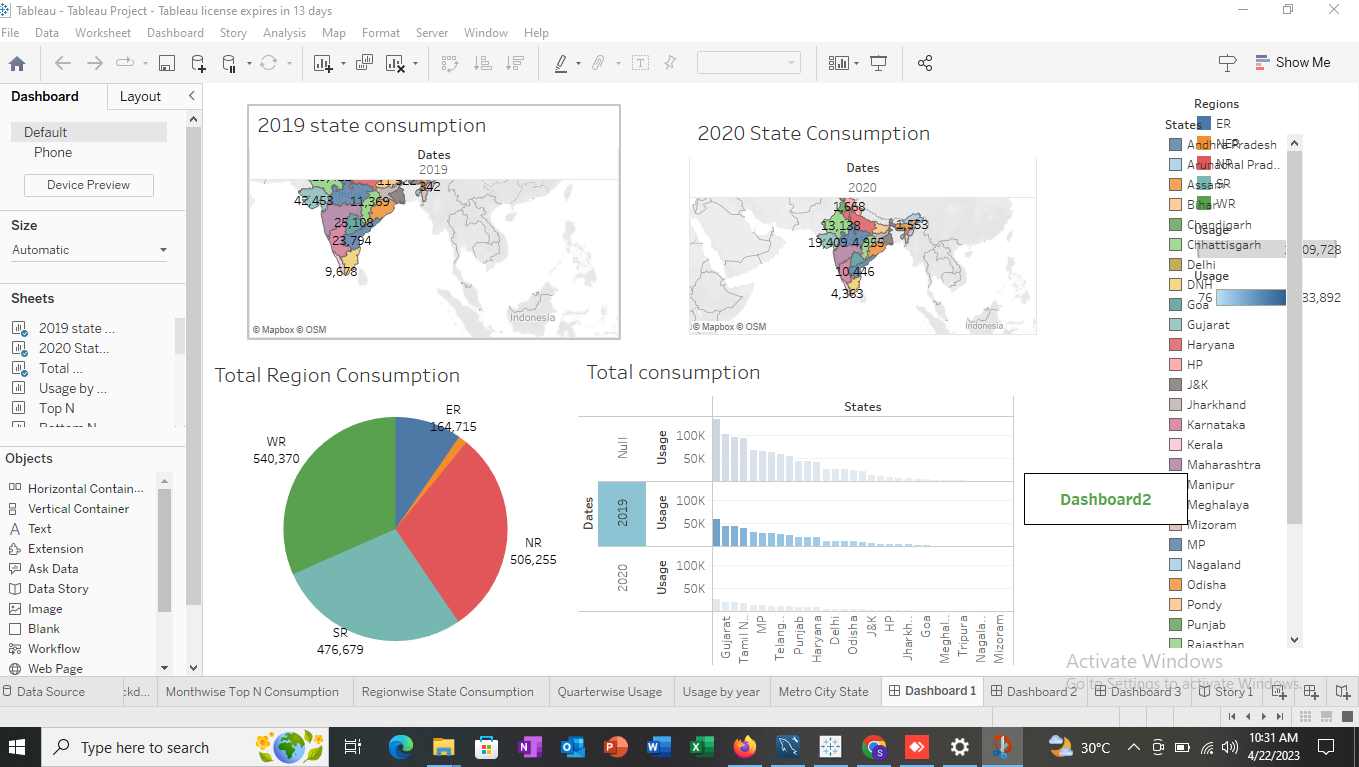

Layout of this report page (visuals, bound fields, positions):
{"tool":"tableau","page":{"name":"Dashboard 1","canvas":[1000,1000],"units":"permille","ordinal":0},"visuals":[{"type":"legend","title":" Total Region Consumption","param":"[federated.109c9rb1er5z9013tcwor05avt9f].[none:Regions:nk]","box":[877,10.8,117.1,170.7]},{"type":"worksheet","title":" 2019 state consumption","mark":"Multipolygon","rows":["latitude"],"cols":["Dates","longitude"],"box":[39.8,38.9,320.4,391.9]},{"type":"worksheet","title":" 2020 State Consumption","mark":"Multipolygon","rows":["latitude"],"cols":["Dates","longitude"],"box":[420.8,52.4,301.3,373.3]},{"type":"legend","title":" 2019 state consumption","param":"[federated.109c9rb1er5z9013tcwor05avt9f].[none:States:nk]","box":[832.9,55.7,121.2,898.6]},{"type":"legend","title":" Total Region Consumption","param":"[federated.109c9rb1er5z9013tcwor05avt9f].[sum:Usage:qk]","box":[877,181.6,117.1,62.3]},{"type":"legend","title":" Total consumption","param":"[federated.109c9rb1er5z9013tcwor05avt9f].[sum:Usage:qk]","box":[877,243.9,117.1,88.1]},{"type":"worksheet","title":" Total consumption","mark":"Automatic","rows":["Dates","Usage"],"cols":["States"],"box":[324.7,456.1,377.5,528.7]},{"type":"worksheet","title":" Total Region Consumption","mark":"Pie","box":[2.6,461.2,328.1,511.8]},{"type":"dashboard-object","box":[710.8,658.8,142,87.8]}]}

Visuals, with their boxes on the dashboard's canvas, which has no fixed pixel size, in thousandths of its width and height (x1, y1, x2, y2). These are canvas units, not pixel positions in the 1359x767 screenshot, which may show the page scaled, cropped or inside an application window:
" Total Region Consumption" legend: l=877, t=11, r=994, b=182
" 2019 state consumption" worksheet (Multipolygon marks): l=40, t=39, r=360, b=431
" 2020 State Consumption" worksheet (Multipolygon marks): l=421, t=52, r=722, b=426
" 2019 state consumption" legend: l=833, t=56, r=954, b=954
" Total Region Consumption" legend: l=877, t=182, r=994, b=244
" Total consumption" legend: l=877, t=244, r=994, b=332
" Total consumption" worksheet: l=325, t=456, r=702, b=985
" Total Region Consumption" worksheet (Pie marks): l=3, t=461, r=331, b=973
dashboard-object: l=711, t=659, r=853, b=747
